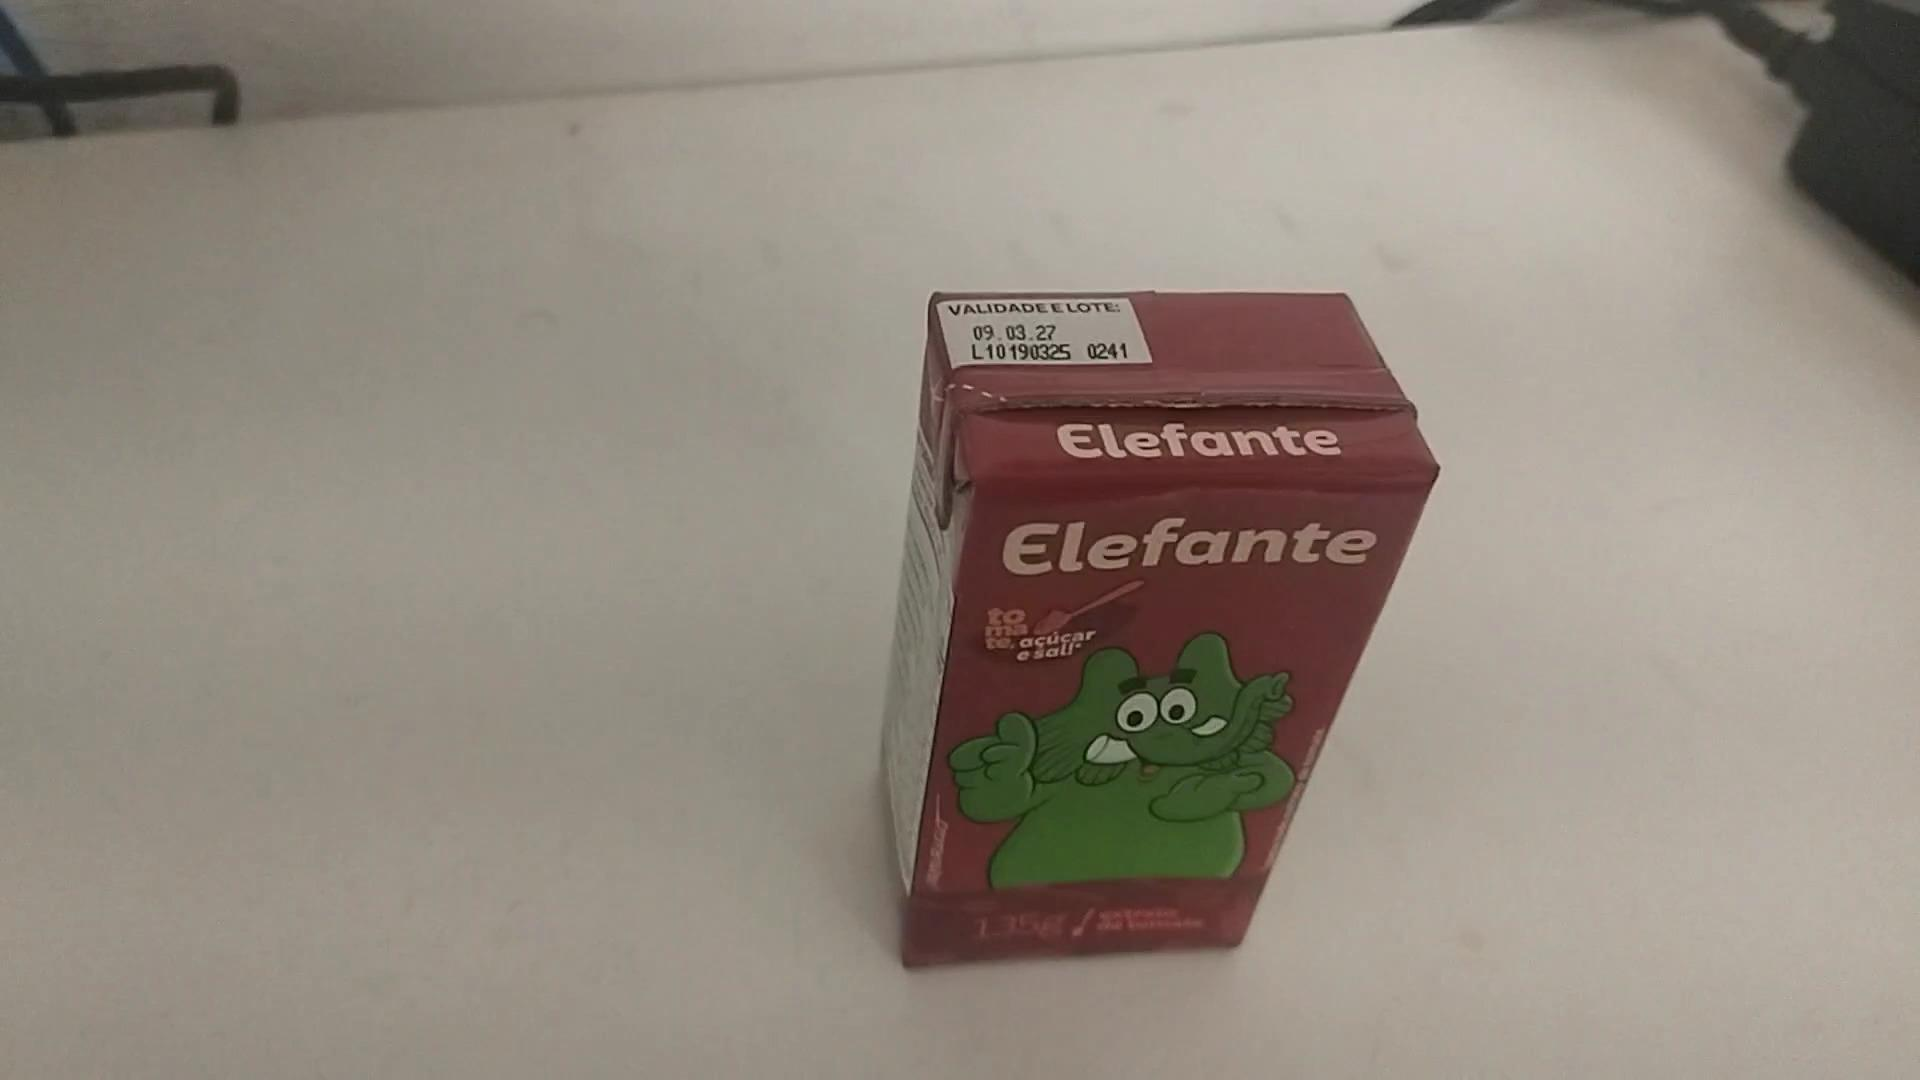tomate: (872, 266, 1447, 960)
